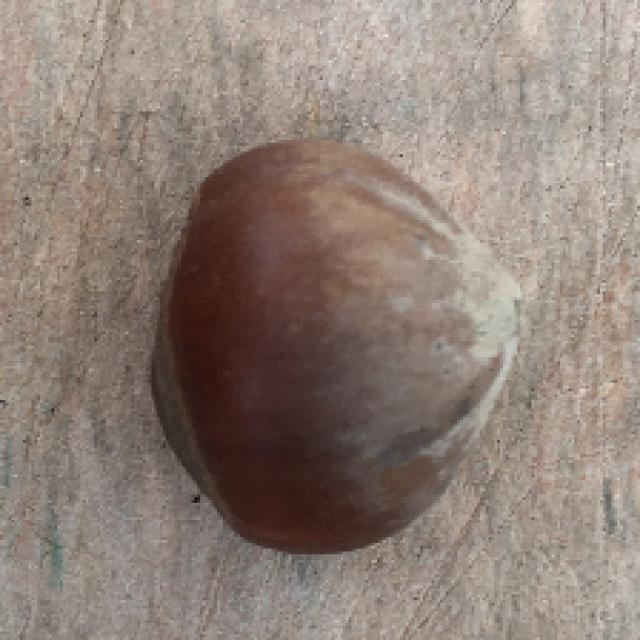DamagedHazelnut: (147, 141, 525, 552)
